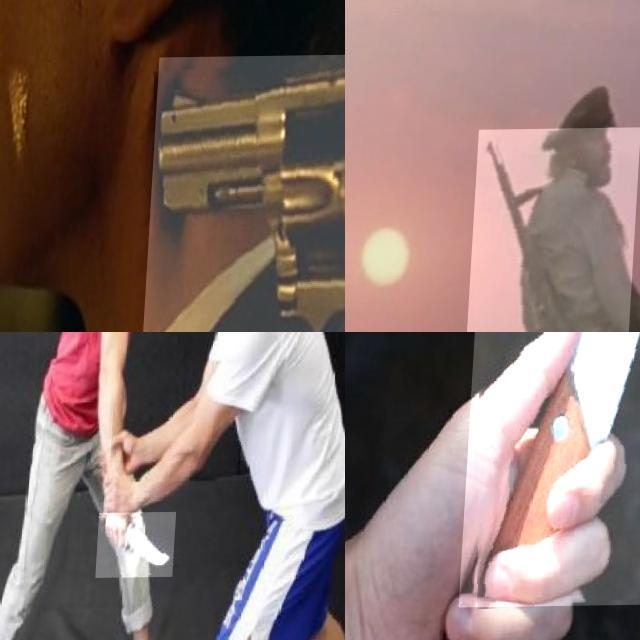-: (465, 332, 640, 608), (100, 513, 180, 579)
gun-knife-thesis - v11 Yolov5 augmented: (142, 53, 345, 332), (466, 128, 640, 332)
